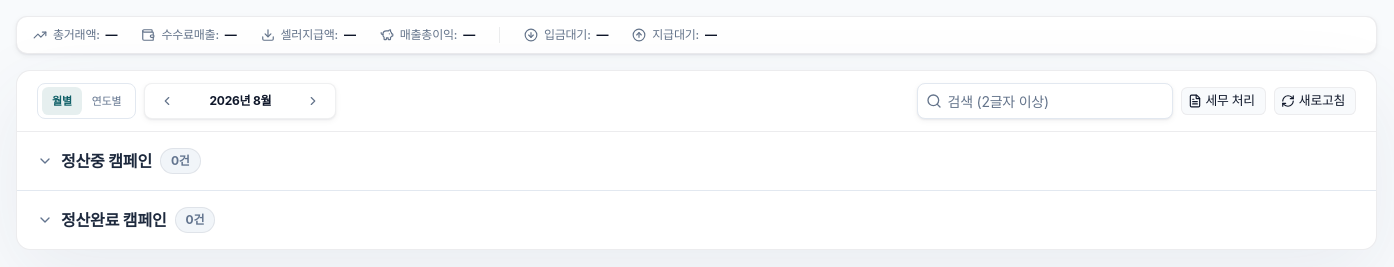
Test: 정산 카드 도구줄 — 페이지 머리 없음 › 연도별을 누르면 기간 라벨이 YYYY년 으로 바뀐다
This screenshot has width=1394, height=267.
What coordinates should you click on to do the following:
click the radio button labelled "연도별"
I would click on:
 (107, 101)
Its box is 82,87 -> 131,115.
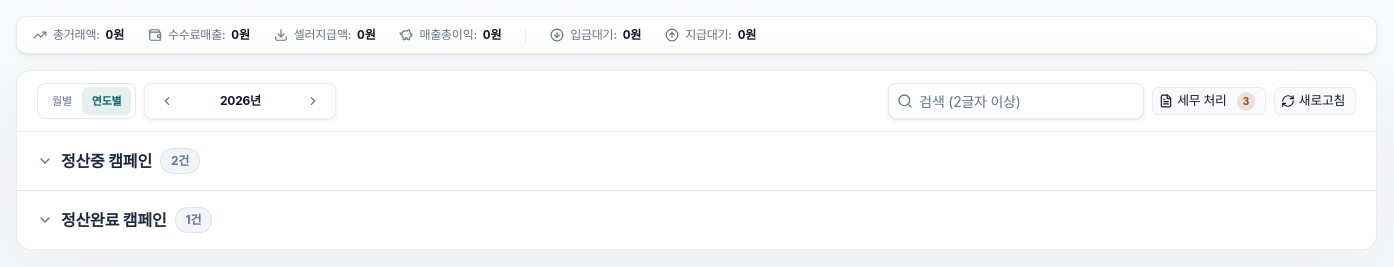
Result: the text "2026년" is shown at 220,93 -> 261,108
